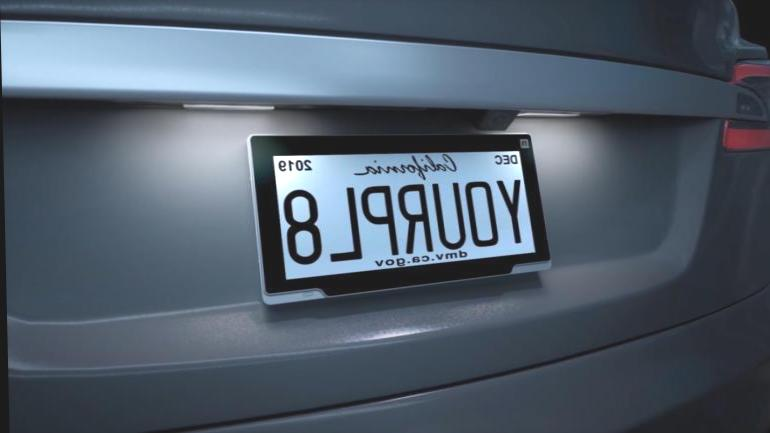License_Plate: (265, 124, 550, 297)
